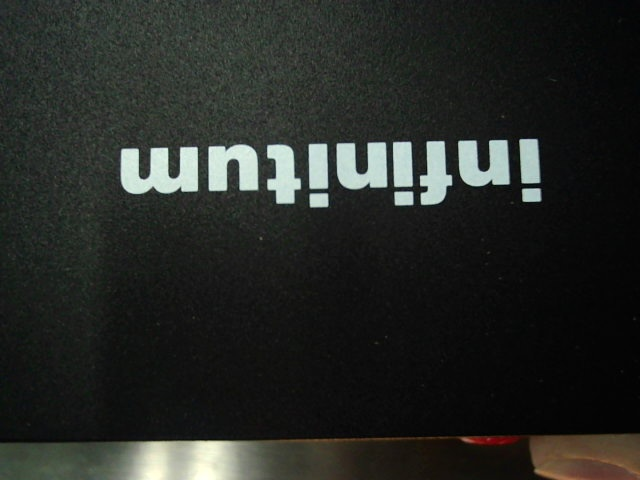BK_infinitum: (110, 121, 551, 227)
